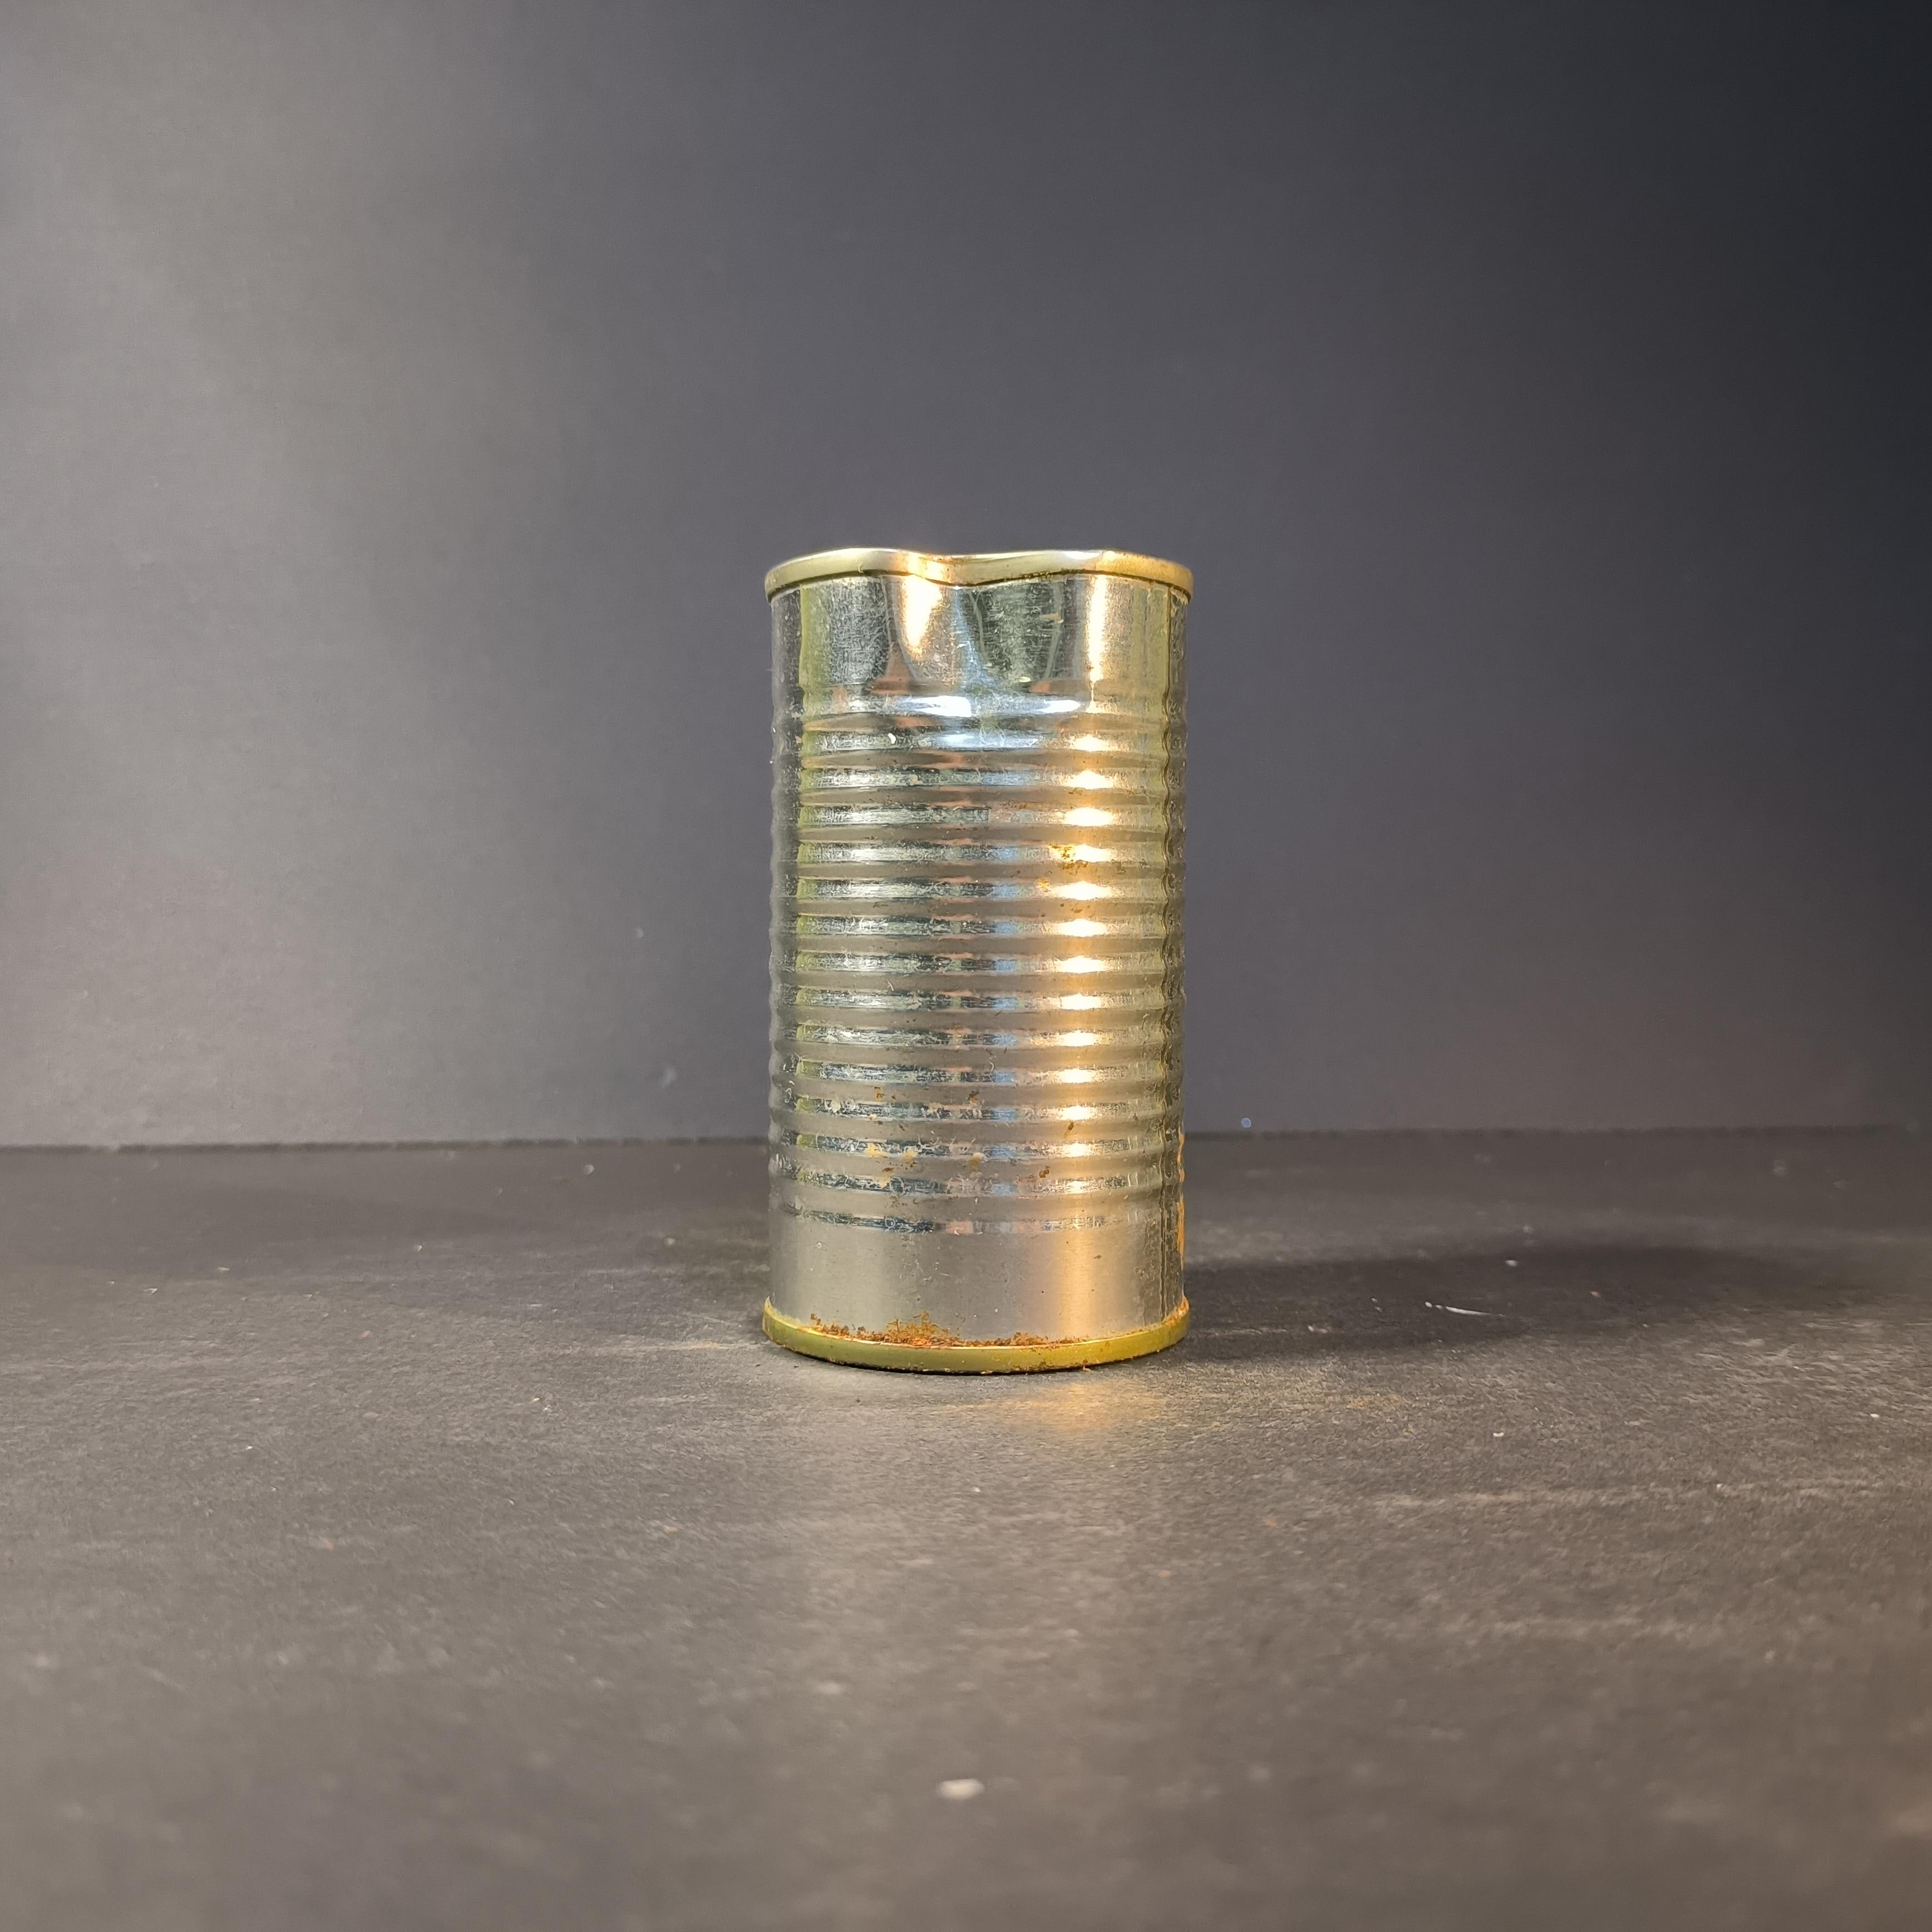Critical Defect: (757, 543, 1196, 1376)
